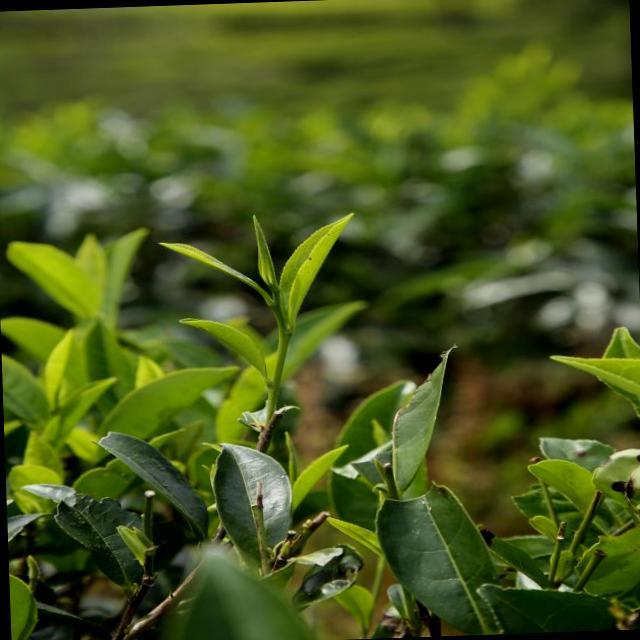Stem: (277, 333, 292, 363), (377, 557, 386, 576)
